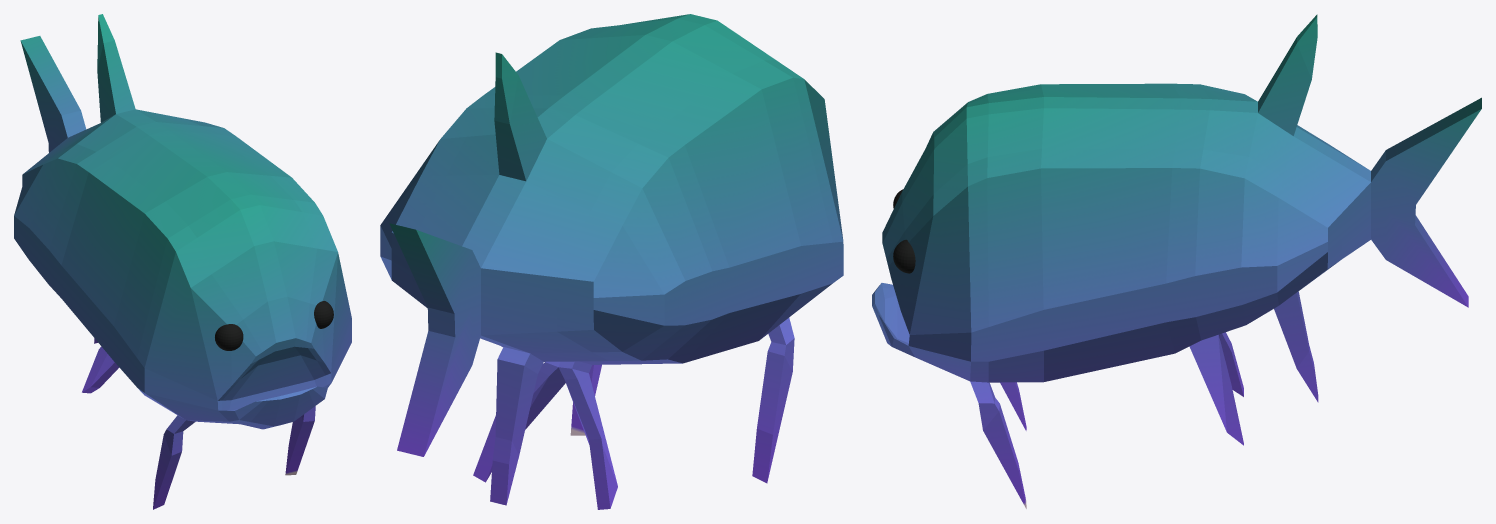
The model's file is Dino_Fih1.fbx.
The picture shows the model from 3 angles, left to right: view 1: azimuth 30°, elevation 25°; view 2: azimuth 150°, elevation 25°; view 3: azimuth 270°, elevation 25°; orthographic projection. The views are drawn at different scales.
Parts seen in each view (by area): view 1: fih, eyes1; view 2: fih; view 3: fih.
Part boxes in pixels (box(x1,y1,x2,y2)): fih: box(14, 14, 351, 509); eyes1: box(215, 301, 333, 350); fih: box(380, 14, 843, 509); fih: box(872, 14, 1481, 508).
Size of the model in its own units: 0.3869 by 0.6907 by 0.8416.
